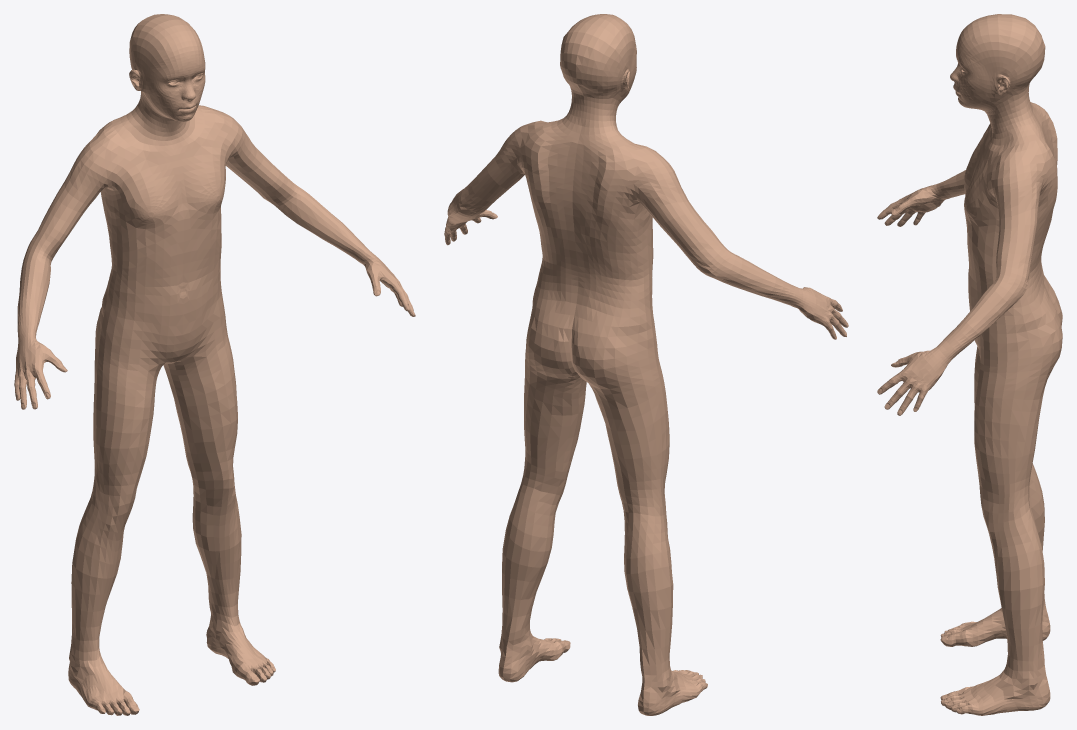
File: peds_anxious_parent.anny_base.obj
3 renders of one model, left to right at view 1: azimuth 30°, elevation 25°; view 2: azimuth 150°, elevation 25°; view 3: azimuth 270°, elevation 25°, orthographic.
Bounding box in the file's own units: 1.03 × 1.66 × 0.4246.
